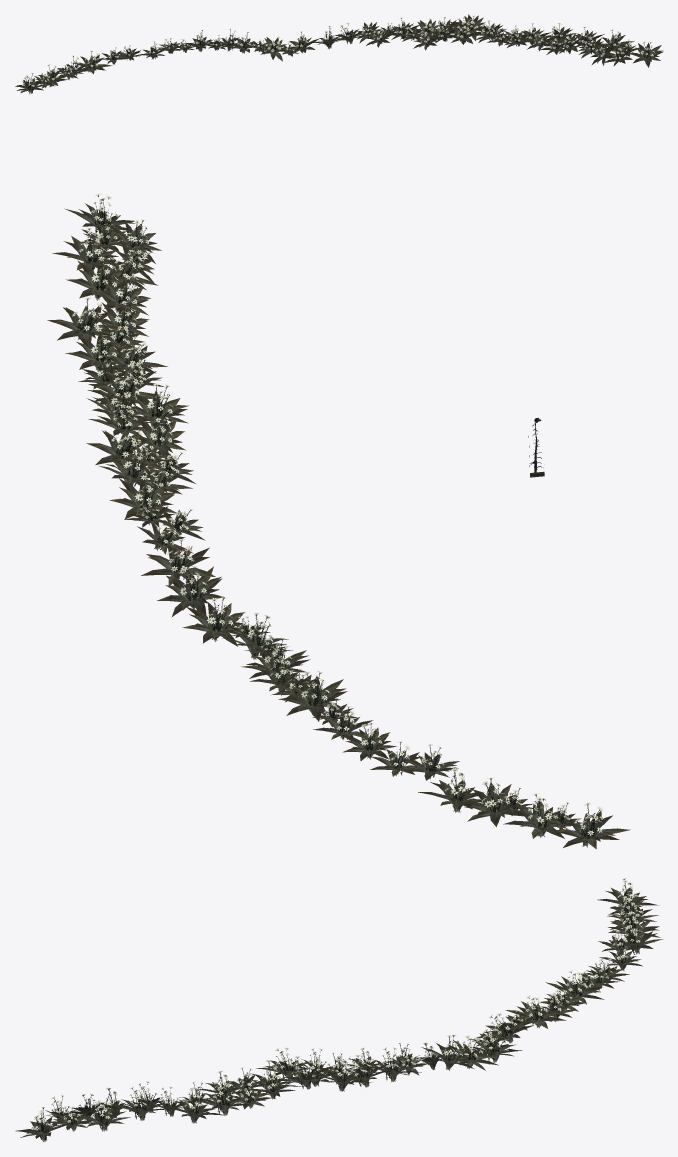
The model's file is grass04.fbx.
3 views of the same model, one above another, from view 1: azimuth 30°, elevation 25°; view 2: azimuth 150°, elevation 25°; view 3: azimuth 270°, elevation 25° (orthographic). The views are drawn at different scales.
Visible parts, largest first — view 1: m001210_1; view 2: m001210_1; view 3: m001210_1.
Boxes of the visible parts, box(x1,y1,x2,y2) form: m001210_1: box(15, 14, 663, 93); m001210_1: box(47, 193, 630, 849); m001210_1: box(15, 878, 663, 1142).
Bounding box in the file's own units: 136157 × 23865 × 105847.
Materials: 1 (1 with a texture image).
